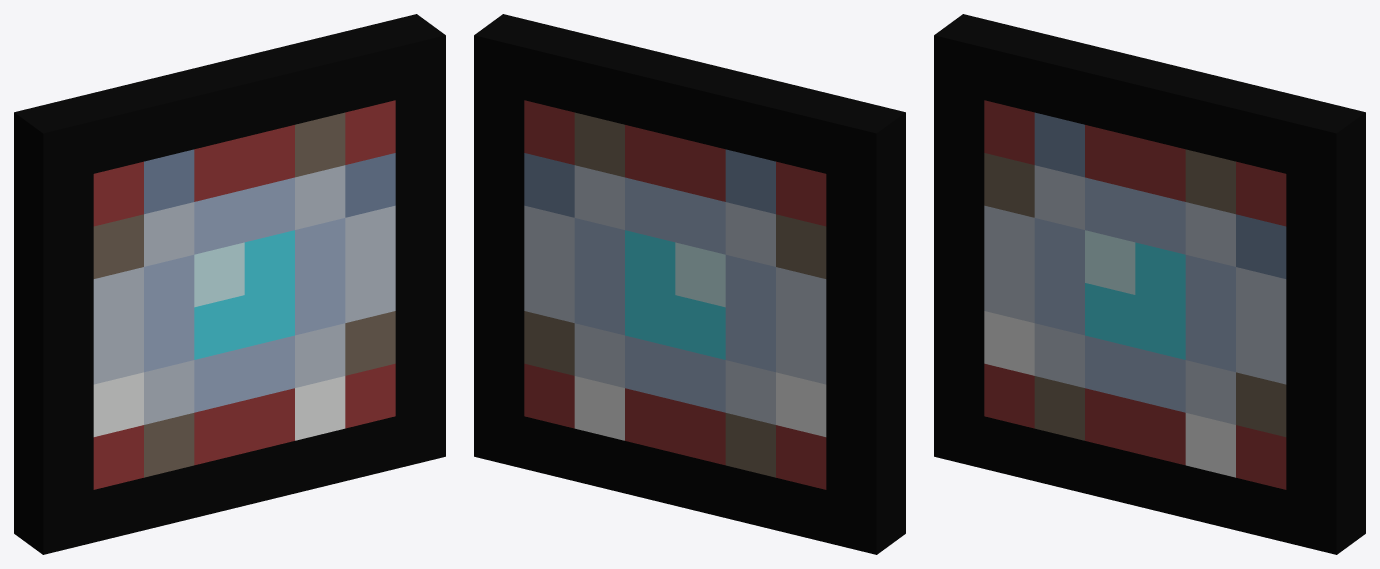
File: Frost Zombie Spawner Block.glb
3 renders of one model, left to right at view 1: azimuth 30°, elevation 25°; view 2: azimuth 150°, elevation 25°; view 3: azimuth 330°, elevation 25°, orthographic.
Visible parts, largest first — view 1: generated(Clone); view 2: generated(Clone); view 3: generated(Clone).
Part boxes in pixels (x1,y1,x2,y2): generated(Clone): (14,14,445,554); generated(Clone): (474,14,905,554); generated(Clone): (934,14,1365,554).
Bounding box in the file's own units: 8 × 8 × 1.
Materials: 1 (1 with a texture image).
